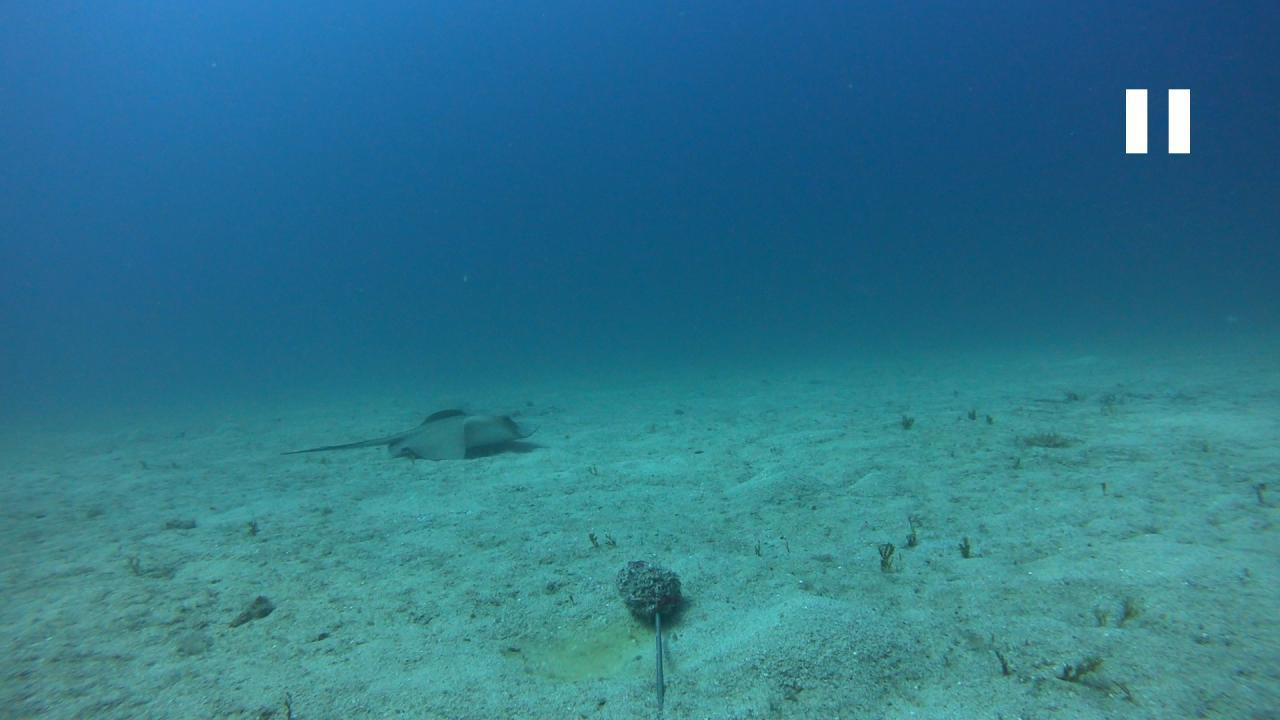dasyatis: (274, 406, 540, 458)
